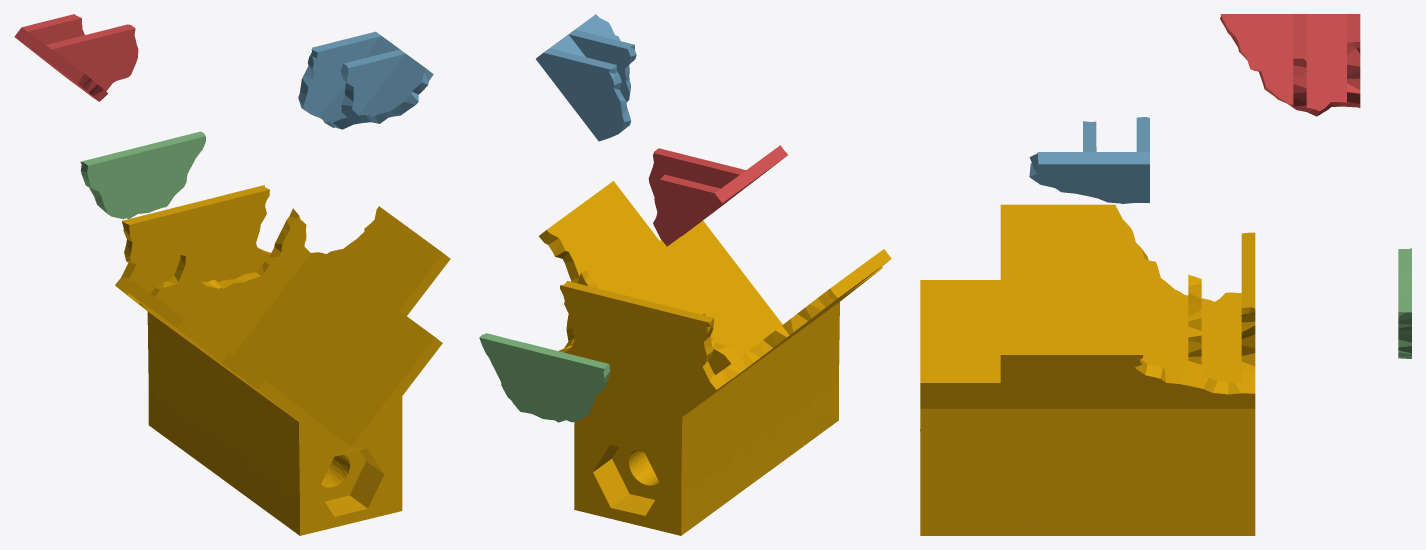
File: mode_8_4pcs_transformed.glb
3 renders of one model, left to right at view 1: azimuth 30°, elevation 25°; view 2: azimuth 150°, elevation 25°; view 3: azimuth 270°, elevation 25°, orthographic. The views are drawn at different scales.
Visible parts, largest first — view 1: piece_0.obj, piece_2.obj, piece_3.obj, piece_1.obj; view 2: piece_0.obj, piece_2.obj, piece_3.obj, piece_1.obj; view 3: piece_0.obj, piece_1.obj, piece_2.obj, piece_3.obj.
Boxes of the visible parts, <box> form: piece_0.obj: <box>115,185,450,535</box>; piece_2.obj: <box>298,31,433,129</box>; piece_3.obj: <box>80,131,205,219</box>; piece_1.obj: <box>14,14,138,101</box>; piece_0.obj: <box>539,181,891,535</box>; piece_2.obj: <box>536,14,636,141</box>; piece_3.obj: <box>479,333,610,422</box>; piece_1.obj: <box>648,145,787,246</box>; piece_0.obj: <box>920,204,1255,535</box>; piece_1.obj: <box>1220,14,1360,116</box>; piece_2.obj: <box>1029,117,1149,203</box>; piece_3.obj: <box>1398,248,1411,358</box>.
Bounding box in the file's own units: 1 × 1.34 × 1.4.
